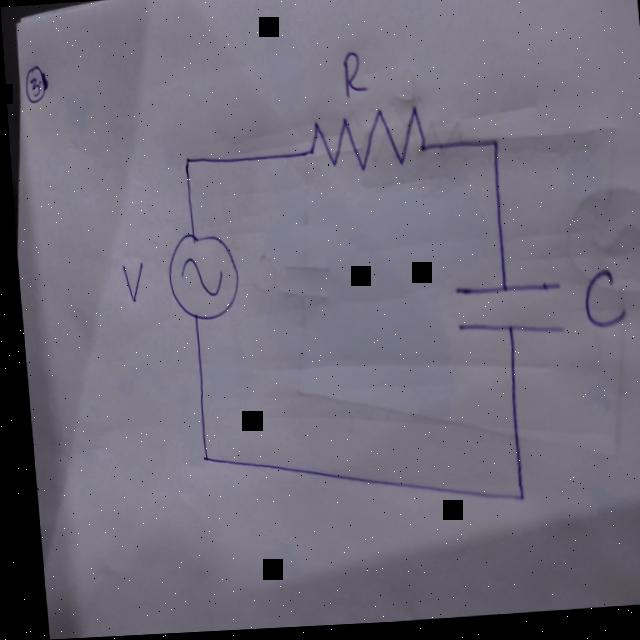capacitor: (445, 282, 561, 346)
junction: (176, 151, 193, 174), (504, 488, 521, 511), (481, 137, 498, 156), (190, 448, 205, 467)
resistor: (300, 105, 427, 180)
source: (156, 228, 239, 326)
text: (572, 270, 622, 335), (335, 49, 368, 100), (115, 258, 142, 302)
